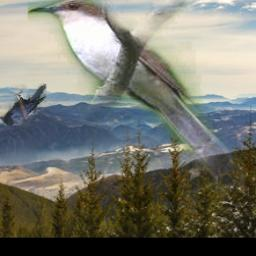Crow: (0, 85, 47, 126)
Cuckoo: (29, 0, 246, 194)
